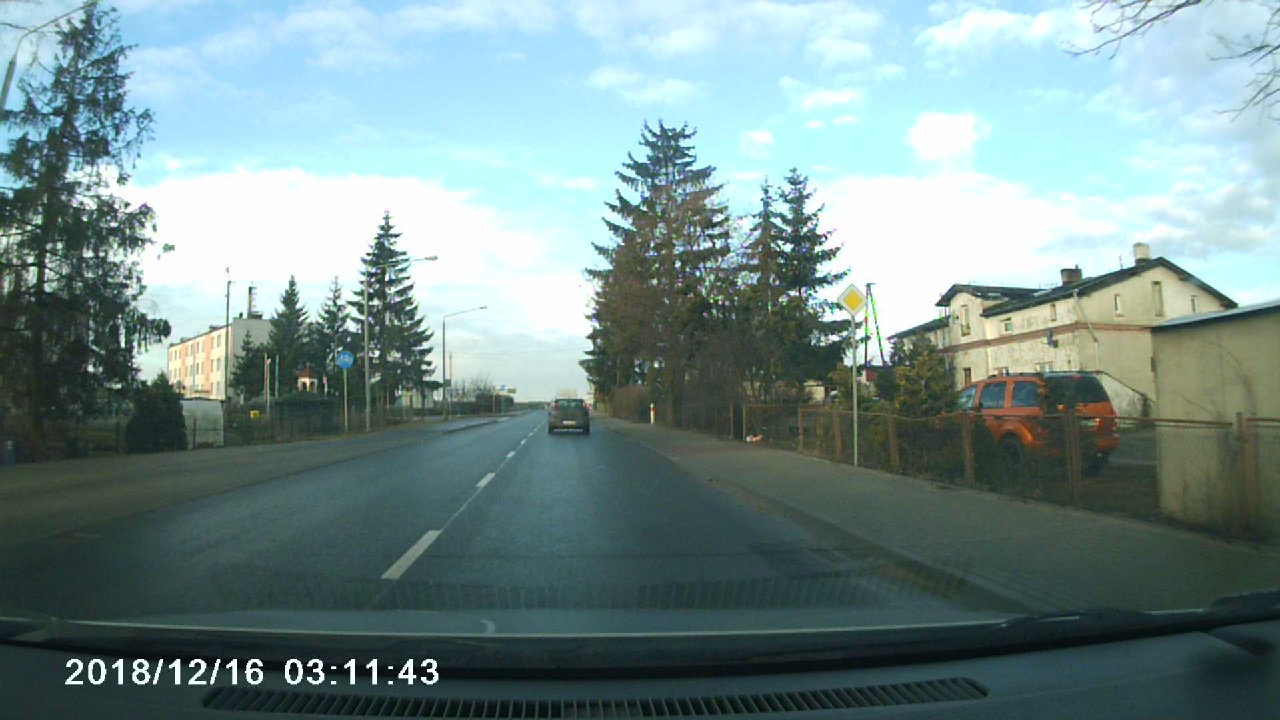D1: (838, 285, 868, 317)
